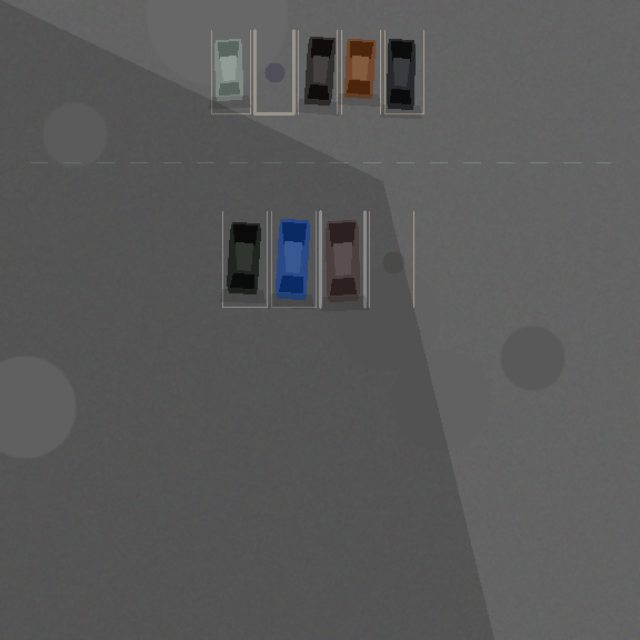space-empty: (369, 211, 413, 307), (254, 30, 293, 113)
space-occupied: (222, 211, 267, 307), (271, 211, 316, 307), (320, 211, 364, 307), (211, 30, 250, 113), (298, 30, 337, 113), (341, 30, 380, 113), (384, 30, 423, 113)
